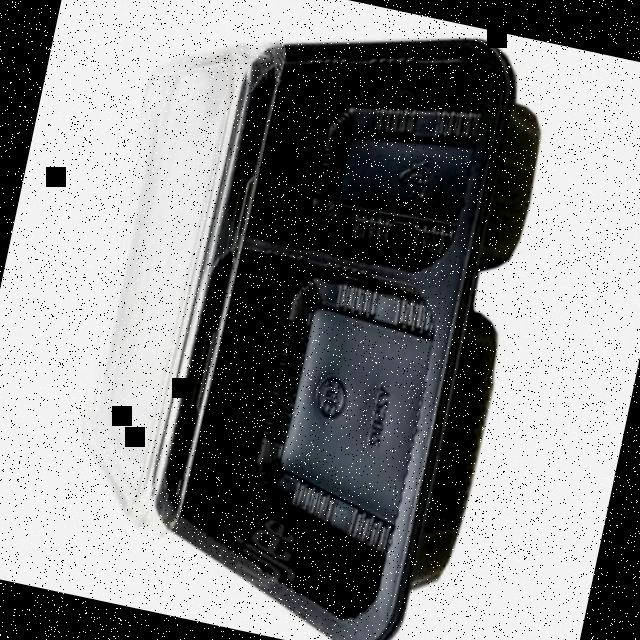plastic_box: (133, 0, 563, 640)
